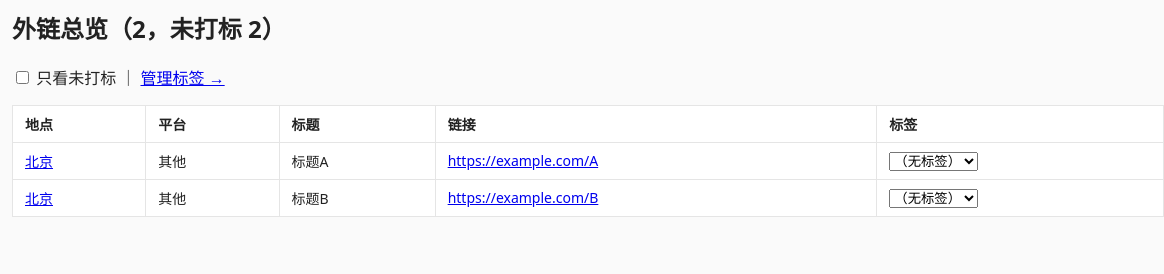
Scenario: 回拉失败告警不被交错完成的成功写入清除,仅整页回拉成功后消失
The image size is (1164, 274).
Note: A、B 两行先后发起打标:行级互斥只锁本行,B 在页面写锁生效前已在途
Step 1. Select "实用攻略" in the 1st dropdown → (934, 161), box [889,152,978,171]
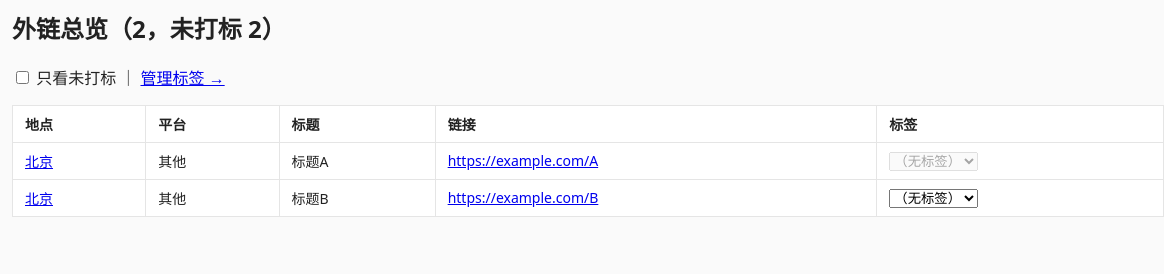
Step 2. Select "实用攻略" in the 2nd dropdown → (934, 198), box [889,189,978,208]
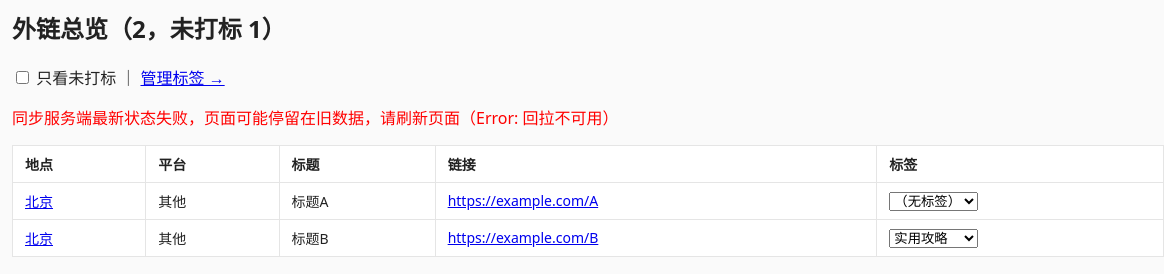
Expected: the text "同步服务端最新状态失败，页面可能停留在旧数据，请刷新页面（Error: 回拉不可用）" is shown, [12,107,619,129]
Step 3. Select "实用攻略" in the 1st dropdown → (934, 201), box [889,192,978,211]
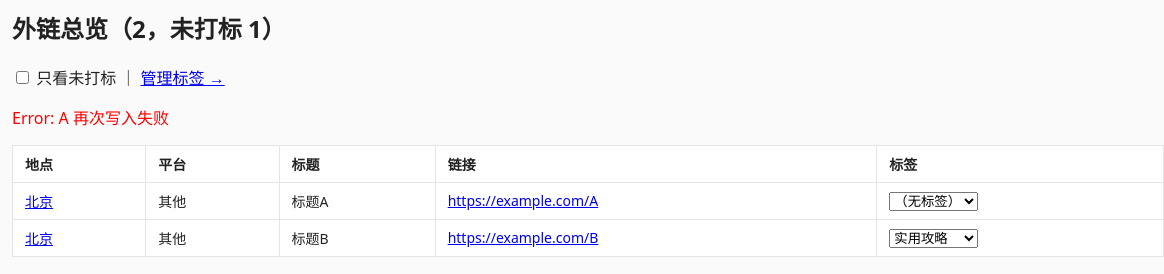
Expected: the text "请刷新页面" is gone
Expected: the text "Error: A 再次写入失败" is shown, [12,107,169,129]
